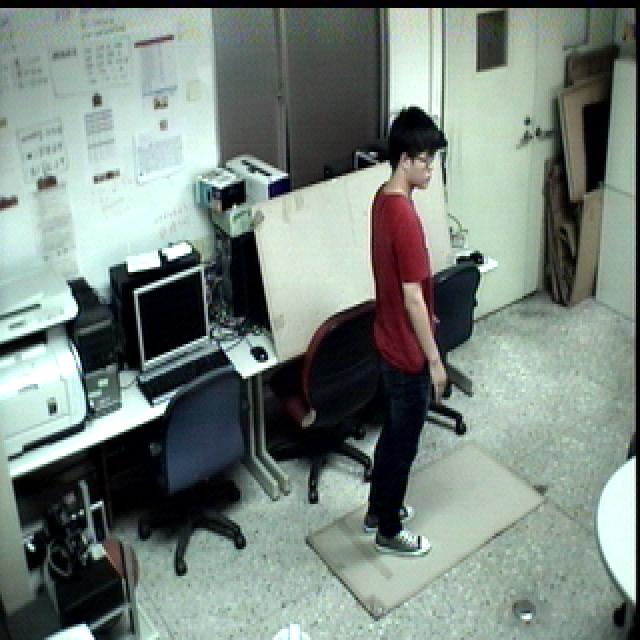stand: (352, 96, 470, 567)
